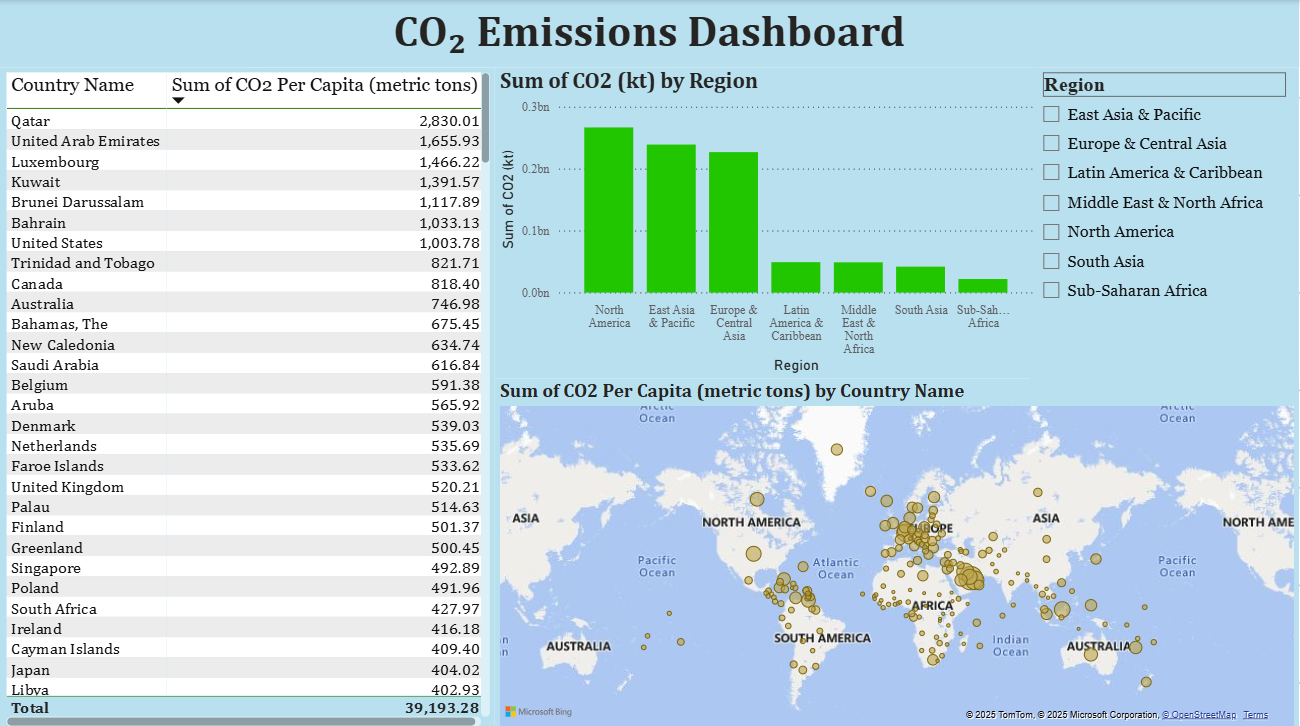

This screenshot's page, from the dashboard's own definition file:
{"tool":"powerbi","page":{"name":"dashboard","canvas":[1280,720],"ordinal":3},"visuals":[{"type":"map","fields":{"Category":["CO2 Data Cleaned.Country Name"],"Size":["Sum(CO2 Data Cleaned.CO2 Per Capita (metric tons))"]},"box":[487.4,372.9,791.4,347.1],"z":0},{"type":"slicer","fields":{"Values":["CO2 Data Cleaned.Region"]},"box":[1014.2,66.5,264.6,315.1],"z":1000},{"type":"tableEx","fields":{"Values":["CO2 Data Cleaned.Country Name","Sum(CO2 Data Cleaned.CO2 Per Capita (metric tons))"]},"box":[0,66.5,487.4,653.5],"z":2000},{"type":"clusteredColumnChart","fields":{"Category":["CO2 Data Cleaned.Region"],"Y":["Sum(CO2 Data Cleaned.CO2 (kt))"]},"box":[487.4,66.5,535.4,306.5],"z":3000},{"type":"textbox","box":[0,0,1279.1,66],"z":4000}]}

Visuals, with their boxes in screenshot pixels (x1, y1, x2, y2), scaled from the page's 1280x720 canvas onto the 1300x726 screenshot:
map - CO2 Data Cleaned.Country Name x Sum(CO2 Data Cleaned.CO2 Per Capita (metric tons)): BBox(495, 376, 1299, 725)
slicer - CO2 Data Cleaned.Region: BBox(1030, 67, 1299, 385)
tableEx - CO2 Data Cleaned.Country Name x Sum(CO2 Data Cleaned.CO2 Per Capita (metric tons)): BBox(0, 67, 495, 725)
clusteredColumnChart - CO2 Data Cleaned.Region x Sum(CO2 Data Cleaned.CO2 (kt)): BBox(495, 67, 1039, 376)
textbox: BBox(0, 0, 1299, 67)
